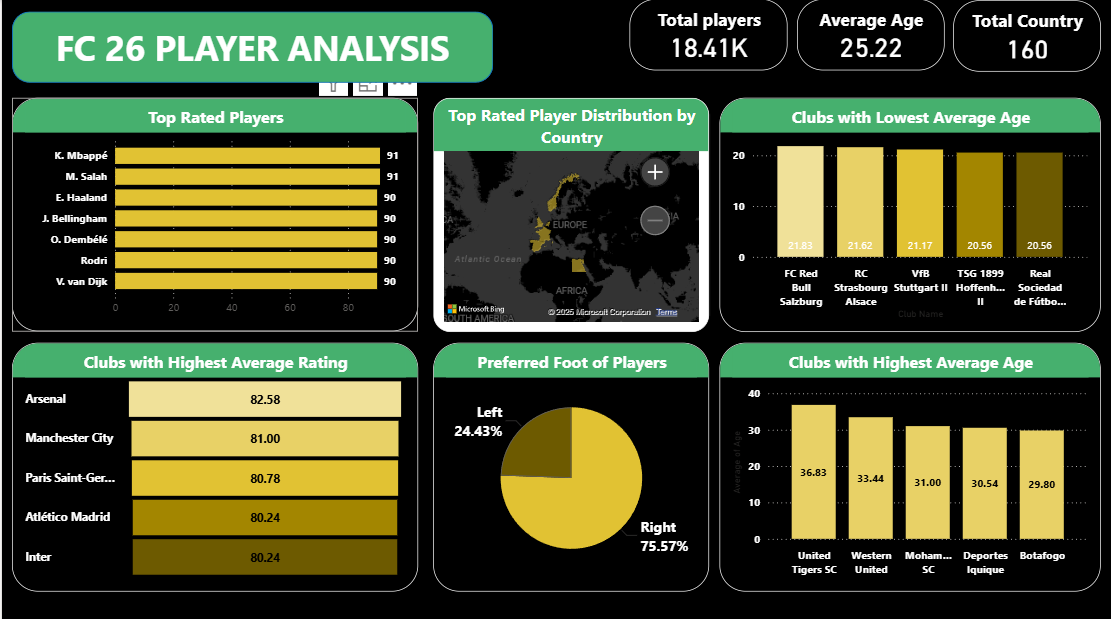

Layout of this report page (visuals, bound fields, positions):
{"tool":"powerbi","page":{"name":"Page 5","canvas":[1280,720],"ordinal":0},"visuals":[{"type":"pieChart","title":"Preferred Foot of Players","fields":{"Category":["FC 26 DATA.preferred_foot"],"Y":["FC 26 DATA.Name"]},"box":[497.1,396.9,318.5,287.1],"z":0},{"type":"funnel","title":"Clubs with Highest Average Rating","fields":{"Category":["FC 26 DATA.Club Name"],"Y":["FC 26 DATA.Overall Rating"]},"box":[11.5,396.8,468.9,287.1],"z":1000},{"type":"card","title":"Total players","fields":{"Values":["FC 26 DATA.Player ID"]},"box":[724.3,0,182.4,82.4],"z":2000},{"type":"card","title":"Average Age","fields":{"Values":["FC 26 DATA.Age"]},"box":[917.6,0,170.3,82.4],"z":3000},{"type":"card","title":"Total Country","fields":{"Values":["FC 26 DATA.Nationality"]},"box":[1098.6,1.4,170.3,82.4],"z":4000},{"type":"barChart","title":"Top Rated Players","fields":{"Category":["FC 26 DATA.Name"],"Y":["FC 26 DATA.Overall Rating"]},"box":[11.5,114,468.9,269.8],"z":5000},{"type":"columnChart","title":"Clubs with Highest Average Age","fields":{"Category":["FC 26 DATA.Club Name"],"Y":["FC 26 DATA.Age"]},"box":[828.8,396.9,440.4,287.1],"z":6000},{"type":"columnChart","title":"Clubs with Lowest Average Age","fields":{"Category":["FC 26 DATA.Club Name"],"Y":["FC 26 DATA.Age"]},"box":[828.8,113.4,440.4,270.2],"z":7000},{"type":"filledMap","title":"Top Rated Player Distribution by Country","fields":{"Category":["FC 26 DATA.Nationality"]},"box":[497.1,113.4,318.5,270.2],"z":7001},{"type":"shape","box":[11.5,14.4,555.5,82.2],"z":7002}]}

Visuals, with their boxes in screenshot pixels (x1, y1, x2, y2), scaled from the page's 1280x720 canvas onto the 1111x619 screenshot:
"Preferred Foot of Players" pieChart: pyautogui.locateOnScreen(431, 341, 708, 588)
"Clubs with Highest Average Rating" funnel: pyautogui.locateOnScreen(10, 341, 417, 588)
"Total players" card: pyautogui.locateOnScreen(629, 0, 787, 71)
"Average Age" card: pyautogui.locateOnScreen(796, 0, 944, 71)
"Total Country" card: pyautogui.locateOnScreen(954, 1, 1101, 72)
"Top Rated Players" barChart: pyautogui.locateOnScreen(10, 98, 417, 330)
"Clubs with Highest Average Age" columnChart: pyautogui.locateOnScreen(719, 341, 1102, 588)
"Clubs with Lowest Average Age" columnChart: pyautogui.locateOnScreen(719, 97, 1102, 330)
"Top Rated Player Distribution by Country" filledMap: pyautogui.locateOnScreen(431, 97, 708, 330)
shape: pyautogui.locateOnScreen(10, 12, 492, 83)
